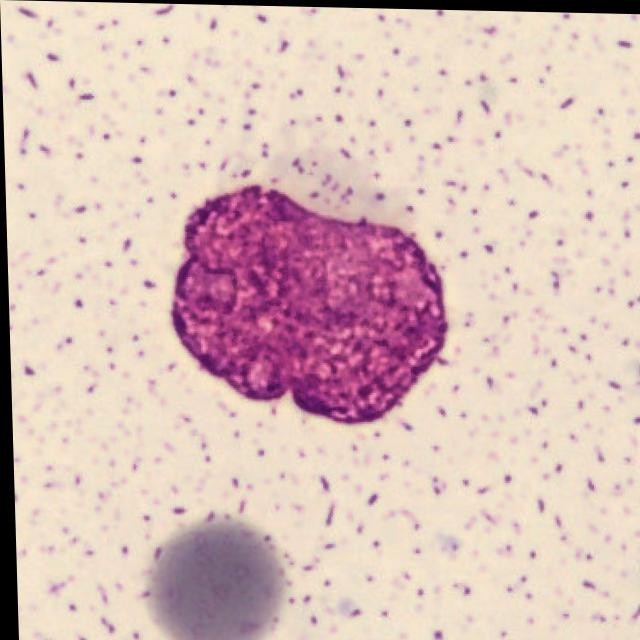Restos celulares: (171, 183, 447, 422)
